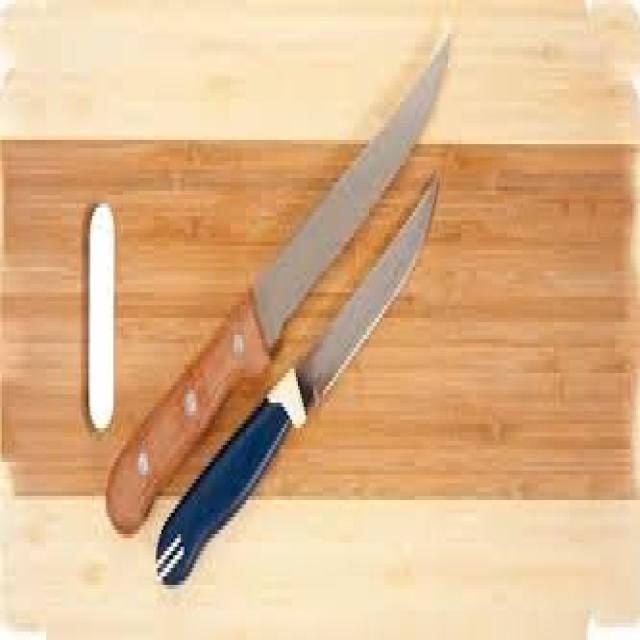Knife: (108, 38, 448, 530), (160, 178, 436, 581)
